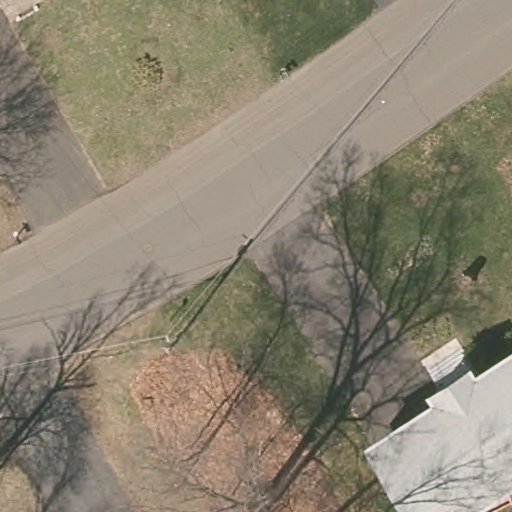DT: (157, 331, 180, 358)
